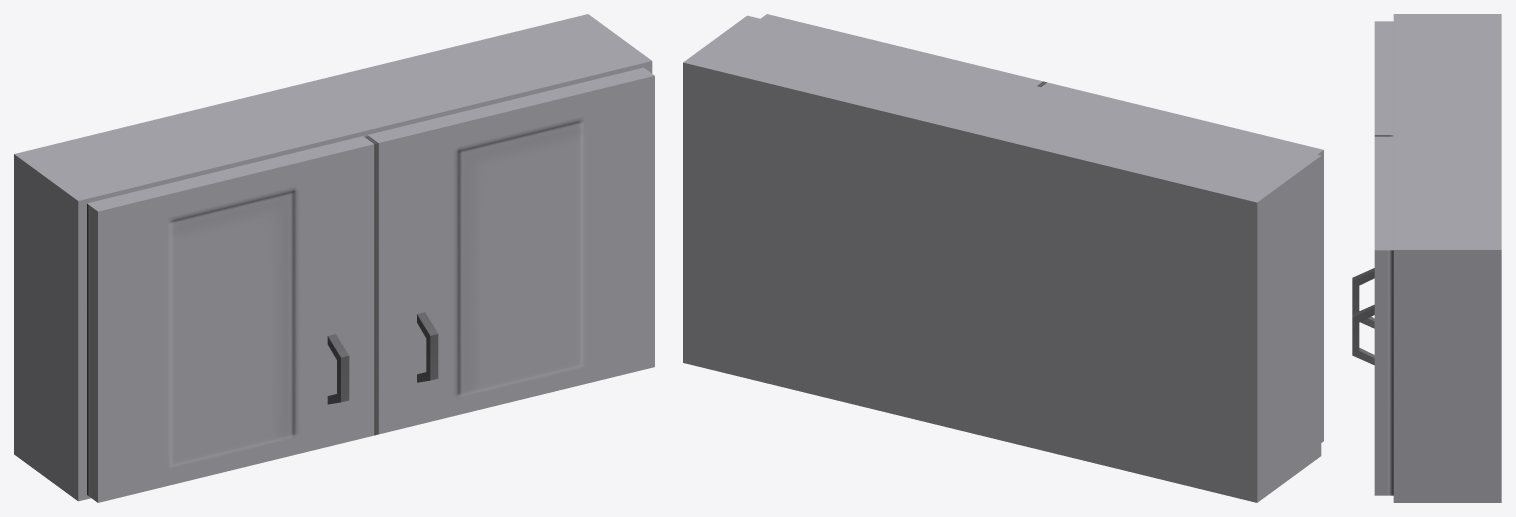
The model's file is Cupboard_4_1.fbx.
3 views of the same model, side by side, from view 1: azimuth 30°, elevation 25°; view 2: azimuth 150°, elevation 25°; view 3: azimuth 270°, elevation 25° (orthographic). The views are drawn at different scales.
Parts seen in each view (by area): view 1: polySurface1568; view 2: polySurface1568; view 3: polySurface1568.
Part boxes in pixels (x1,y1,x2,y2): polySurface1568: (14, 14, 654, 502); polySurface1568: (683, 14, 1323, 502); polySurface1568: (1352, 14, 1501, 502).
Bounding box in the file's own units: 1.8 × 0.9 × 0.4813.
